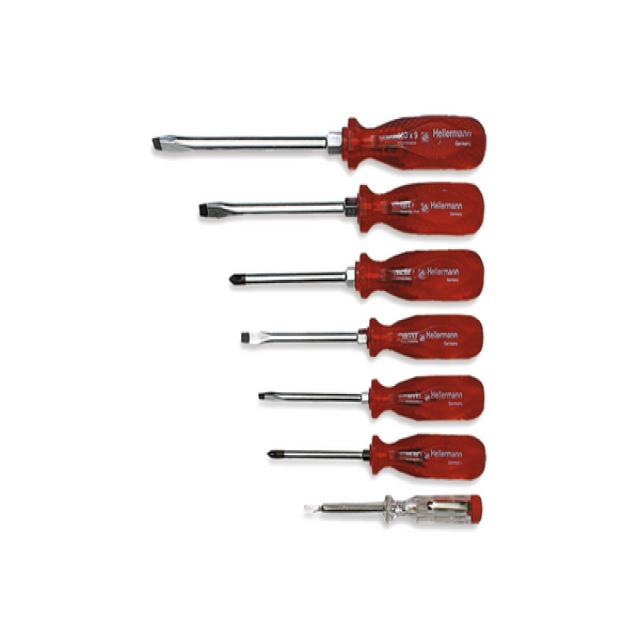Screwdriver: (152, 115, 486, 170), (199, 183, 484, 235), (230, 251, 484, 301), (241, 315, 484, 358), (259, 375, 485, 420), (268, 433, 486, 479), (305, 494, 482, 524)
